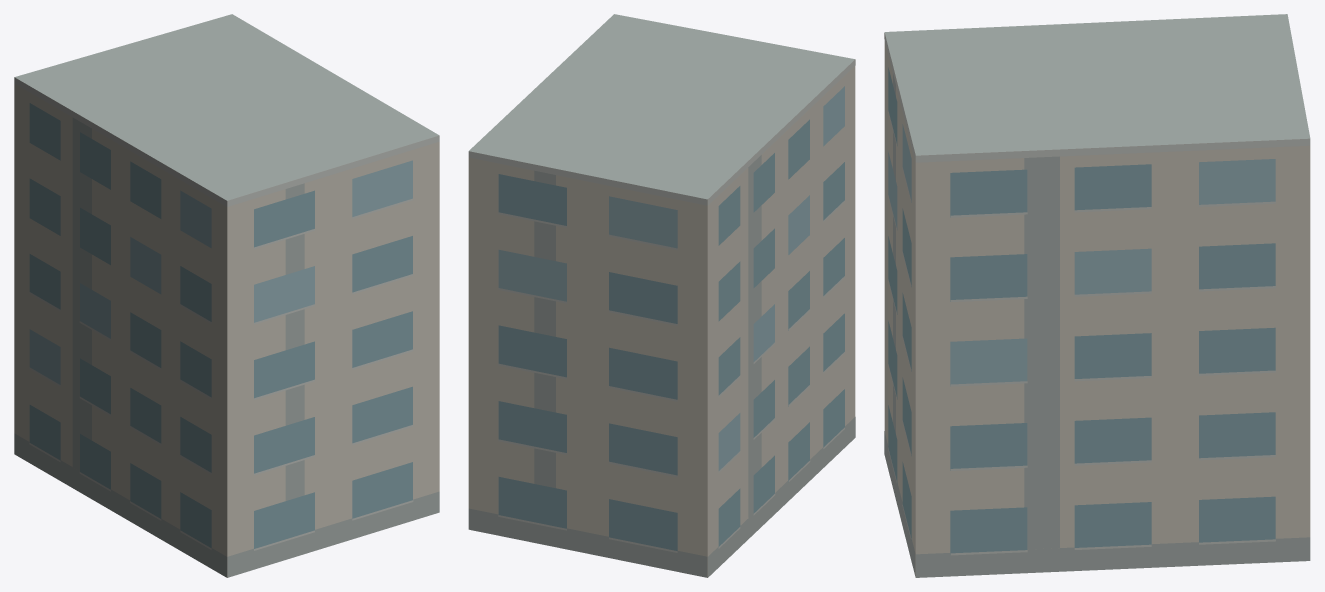
The model's file is survey-upis-32884527.glb.
The picture shows the model from 3 angles, left to right: view 1: azimuth 30°, elevation 25°; view 2: azimuth 150°, elevation 25°; view 3: azimuth 270°, elevation 25°; orthographic projection. The views are drawn at different scales.
Parts seen in each view (by area): view 1: survey-upis-32884527.tmp; view 2: survey-upis-32884527.tmp; view 3: survey-upis-32884527.tmp.
Boxes of the visible parts, box(x1,y1,x2,y2) form: survey-upis-32884527.tmp: box(14, 14, 439, 577); survey-upis-32884527.tmp: box(468, 14, 855, 577); survey-upis-32884527.tmp: box(884, 14, 1310, 577).
Bounding box in the file's own units: 10.57 × 14.68 × 13.43.
